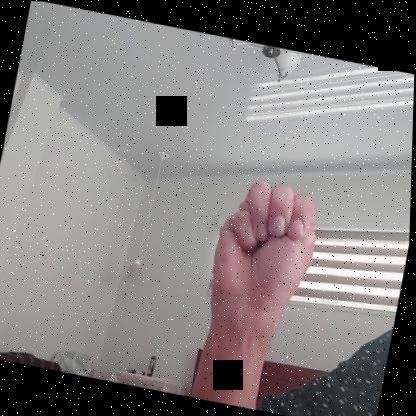M: (204, 171, 329, 315)
